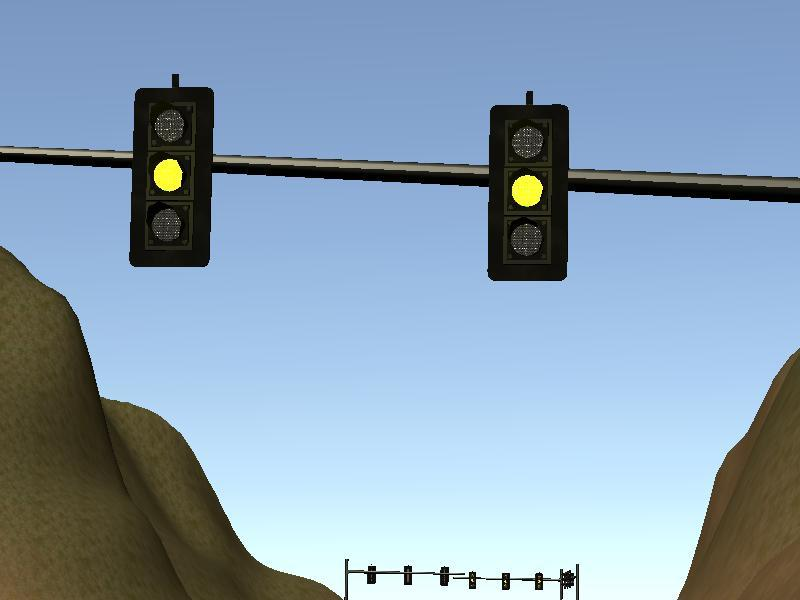Yellow: (489, 106, 568, 281), (134, 88, 209, 266)
